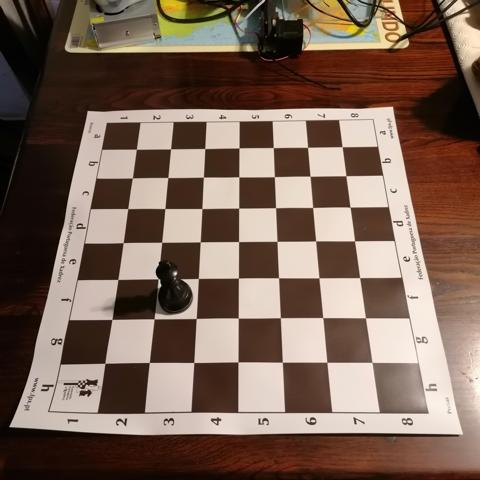xcorner: (333, 138, 349, 154), (298, 138, 314, 154), (195, 139, 211, 155), (161, 140, 177, 156), (128, 140, 144, 156), (337, 166, 353, 182), (265, 167, 281, 183), (229, 167, 245, 183), (158, 168, 174, 184), (123, 168, 139, 184), (342, 197, 358, 213), (304, 197, 320, 213), (229, 198, 245, 214), (192, 198, 208, 214), (347, 231, 363, 247), (307, 231, 323, 247), (268, 231, 284, 247), (190, 232, 206, 248), (152, 232, 168, 248), (113, 232, 129, 248), (352, 268, 368, 284), (311, 268, 327, 284), (270, 268, 286, 284), (229, 268, 245, 284), (188, 268, 204, 284), (148, 268, 164, 284), (358, 309, 374, 325), (315, 309, 331, 325), (186, 309, 202, 325), (365, 354, 381, 370), (319, 354, 335, 370), (228, 353, 244, 369), (183, 353, 199, 369), (139, 353, 155, 369), (95, 353, 111, 369), (264, 139, 280, 154), (230, 139, 245, 155), (301, 167, 317, 182), (194, 168, 210, 183), (267, 198, 282, 214), (155, 199, 171, 214), (119, 199, 134, 215), (229, 232, 245, 247), (108, 269, 124, 284), (272, 309, 287, 325), (229, 309, 244, 325), (274, 354, 289, 370), (144, 309, 159, 324), (102, 309, 117, 324)
